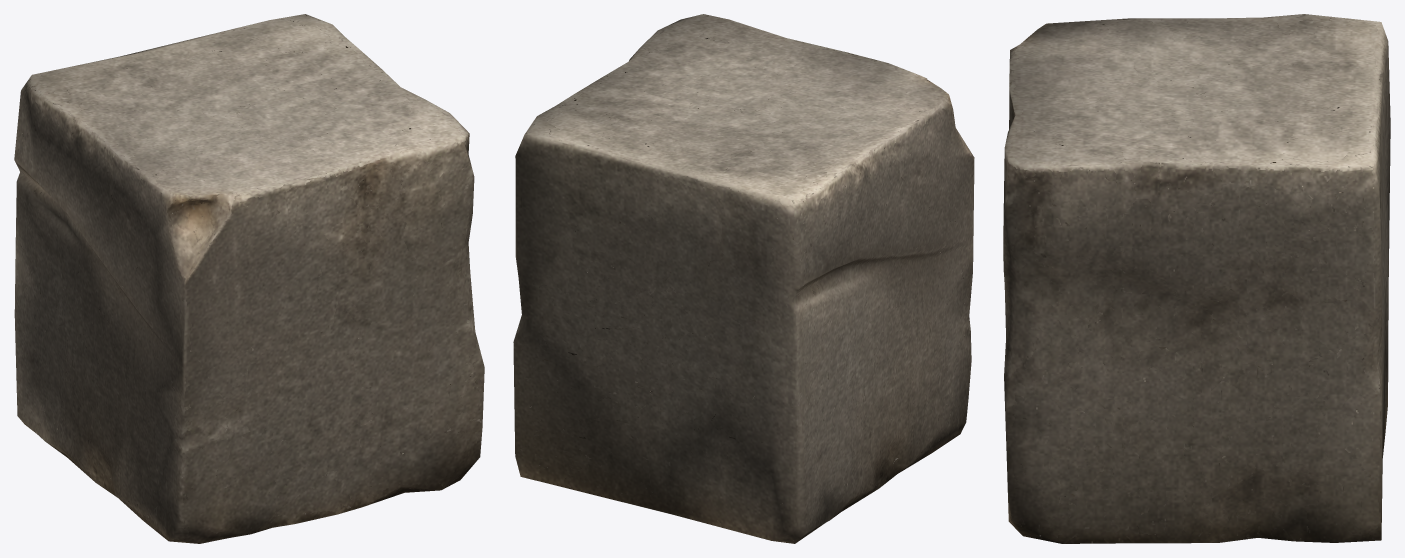
Rendered from 03-bedded-stone-500-normal.glb.
3 views of the same model, side by side, from view 1: azimuth 30°, elevation 25°; view 2: azimuth 150°, elevation 25°; view 3: azimuth 270°, elevation 25° (orthographic). The views are drawn at different scales.
Parts seen in each view (by area): view 1: low-target; view 2: low-target; view 3: low-target.
Part boxes in pixels (box(x1,y1,x2,y2)): low-target: box(14, 14, 484, 543); low-target: box(513, 14, 974, 543); low-target: box(1003, 14, 1390, 543).
Size of the model in its own units: 0.902 by 0.9972 by 0.9312.
1 material, 1 textured.
